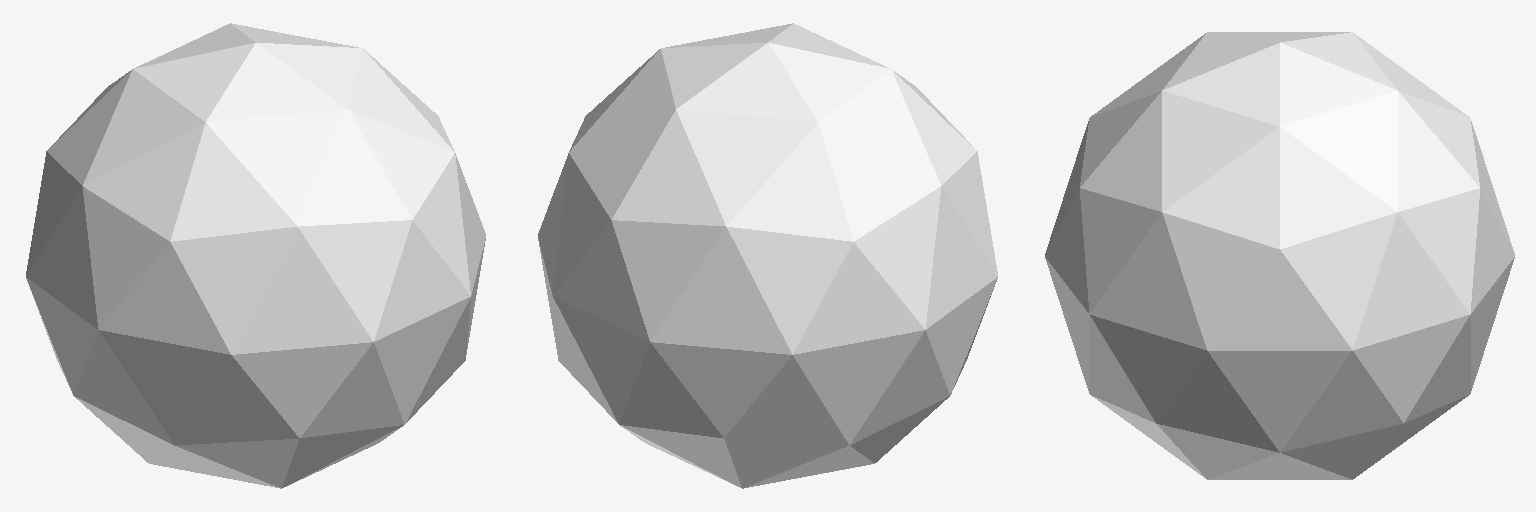
3 renders of one model, left to right at view 1: azimuth 30°, elevation 25°; view 2: azimuth 150°, elevation 25°; view 3: azimuth 270°, elevation 25°, orthographic.
Visible parts, largest first — view 1: snowball; view 2: snowball; view 3: snowball.
Boxes of the visible parts, box(x1,y1,x2,y2) form: snowball: box(26, 23, 485, 488); snowball: box(538, 23, 997, 488); snowball: box(1045, 32, 1514, 479).
Bounding box in the file's own units: 1.9 × 2 × 2.
1 materials, 1 textured.